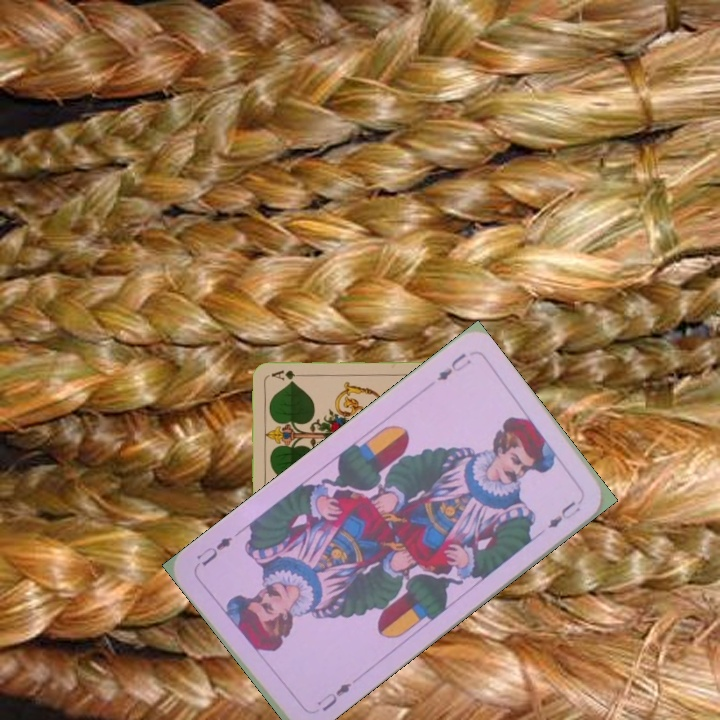EU: (312, 678, 355, 714), (433, 349, 474, 384)
